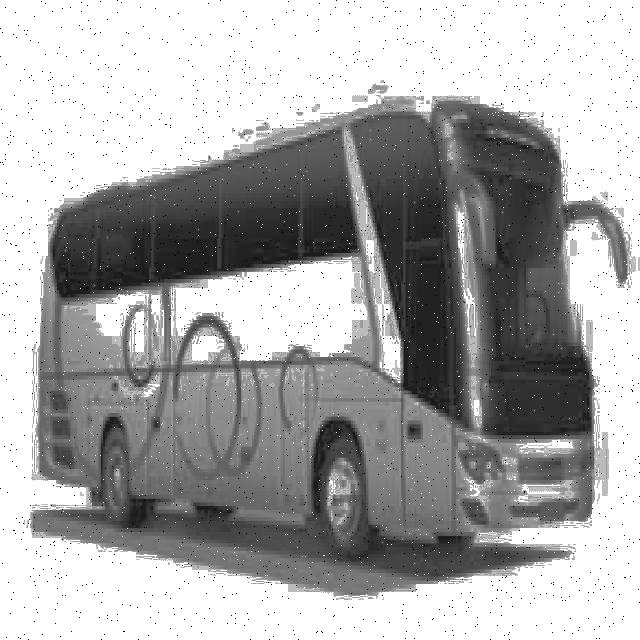Bus: (28, 49, 628, 592)
